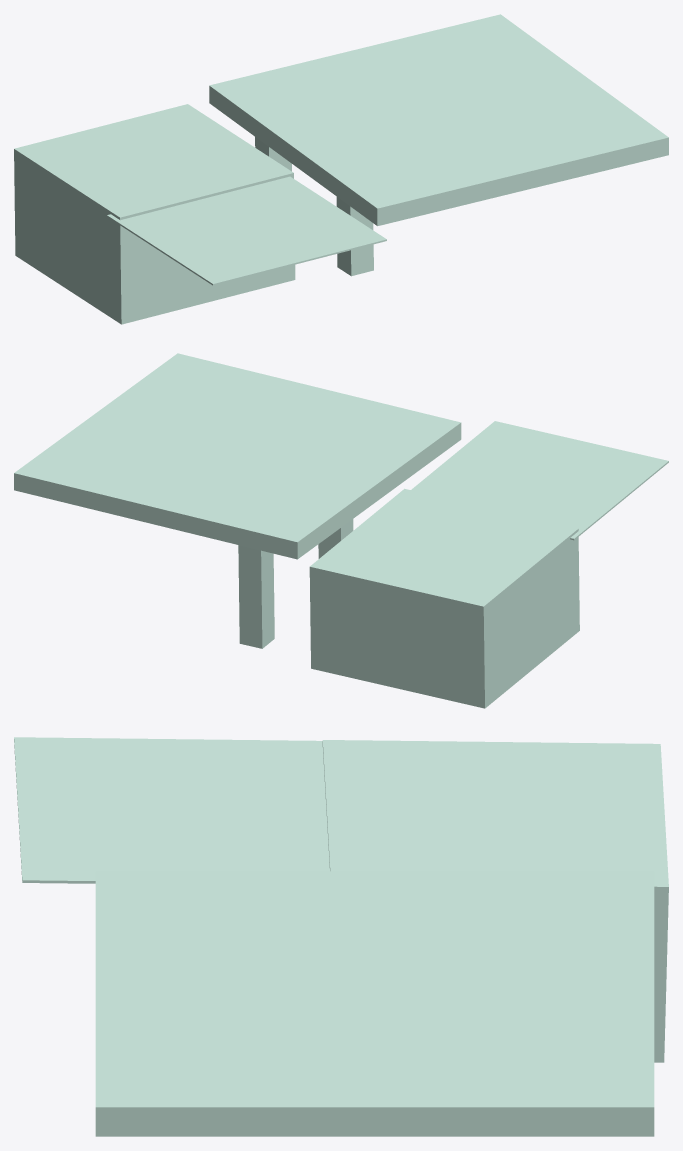
3 views of the same model, one above another, from view 1: azimuth 30°, elevation 25°; view 2: azimuth 150°, elevation 25°; view 3: azimuth 270°, elevation 25° (orthographic). The views are drawn at different scales.
Parts seen in each view (by area): view 1: Renderer Node; view 2: Renderer Node; view 3: Renderer Node.
Part boxes in pixels (<box>): Renderer Node: <box>14,14,668,324</box>; Renderer Node: <box>14,353,668,708</box>; Renderer Node: <box>14,737,668,1136</box>.
Bounding box in the file's own units: 2.47 × 0.6248 × 1.74.
